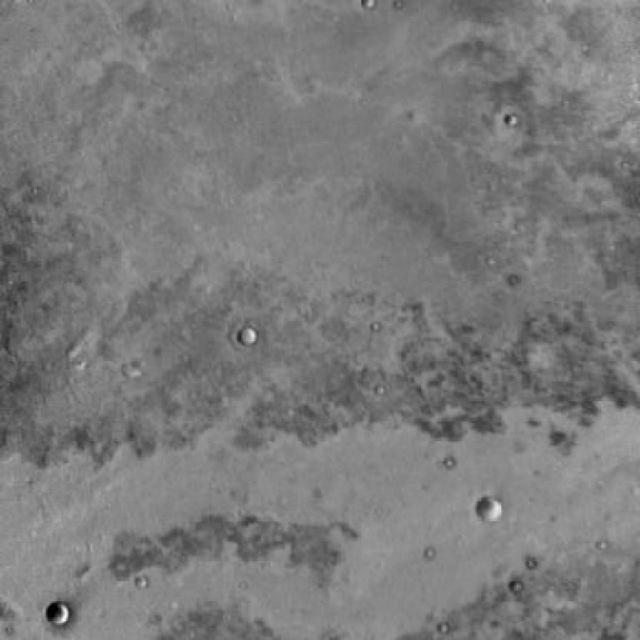crater: (475, 496, 500, 519), (49, 598, 73, 620), (242, 326, 260, 345)
